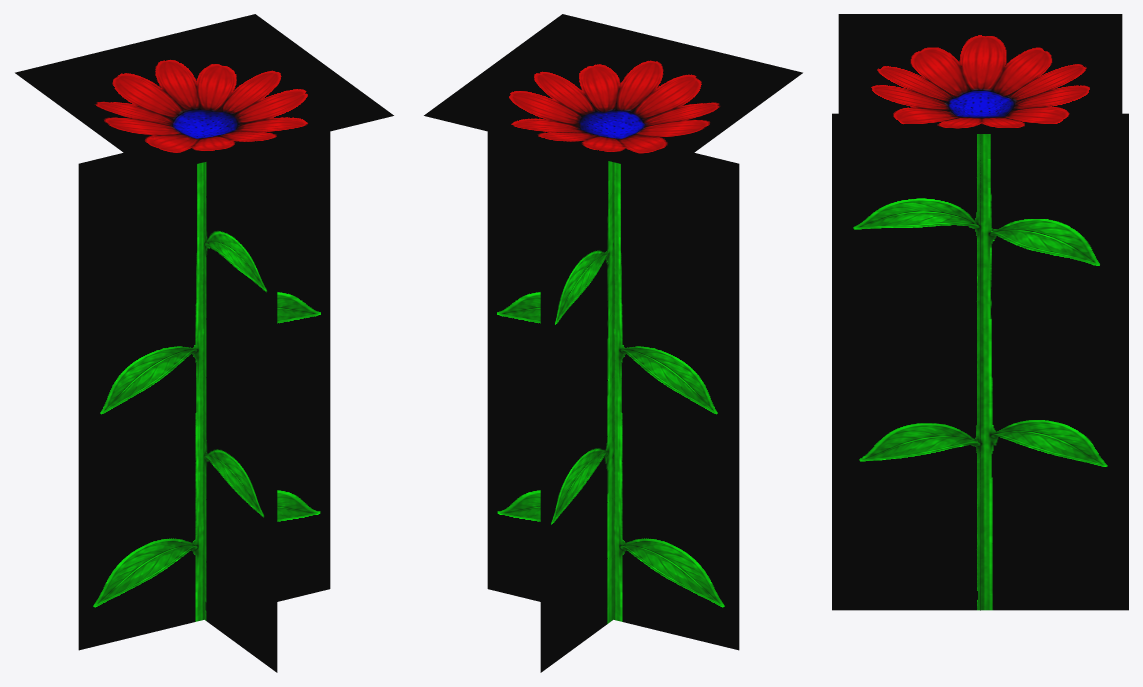
File: Flower02.fbx
The picture shows the model from 3 angles, left to right: view 1: azimuth 30°, elevation 25°; view 2: azimuth 150°, elevation 25°; view 3: azimuth 270°, elevation 25°; orthographic projection. The views are drawn at different scales.
Parts seen in each view (by area): view 1: Flower02_LOD0; view 2: Flower02_LOD0; view 3: Flower02_LOD0.
Boxes of the visible parts, x1,y1,x2,y2 form: Flower02_LOD0: (15,14,393,672); Flower02_LOD0: (424,14,802,672); Flower02_LOD0: (832,14,1128,610).
Size of what is drawn, in the model's own units: 0.154 by 0.3071 by 0.154.
